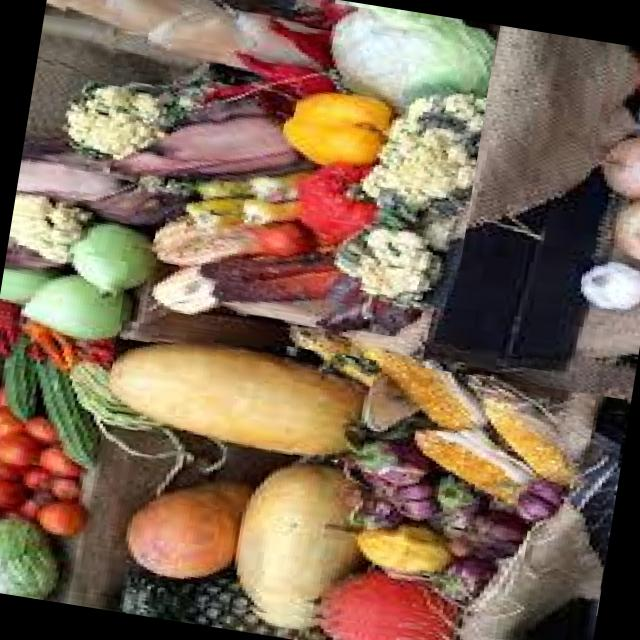Organic: (79, 319, 631, 640), (3, 0, 498, 344), (0, 242, 129, 605), (568, 42, 640, 327)
